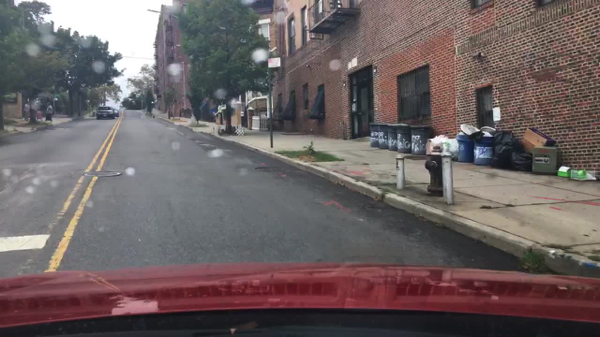car: (95, 106, 115, 120), (113, 108, 119, 117)
person: (23, 101, 31, 122), (45, 103, 53, 123), (37, 109, 43, 122)
traffic sign: (267, 58, 281, 67)
